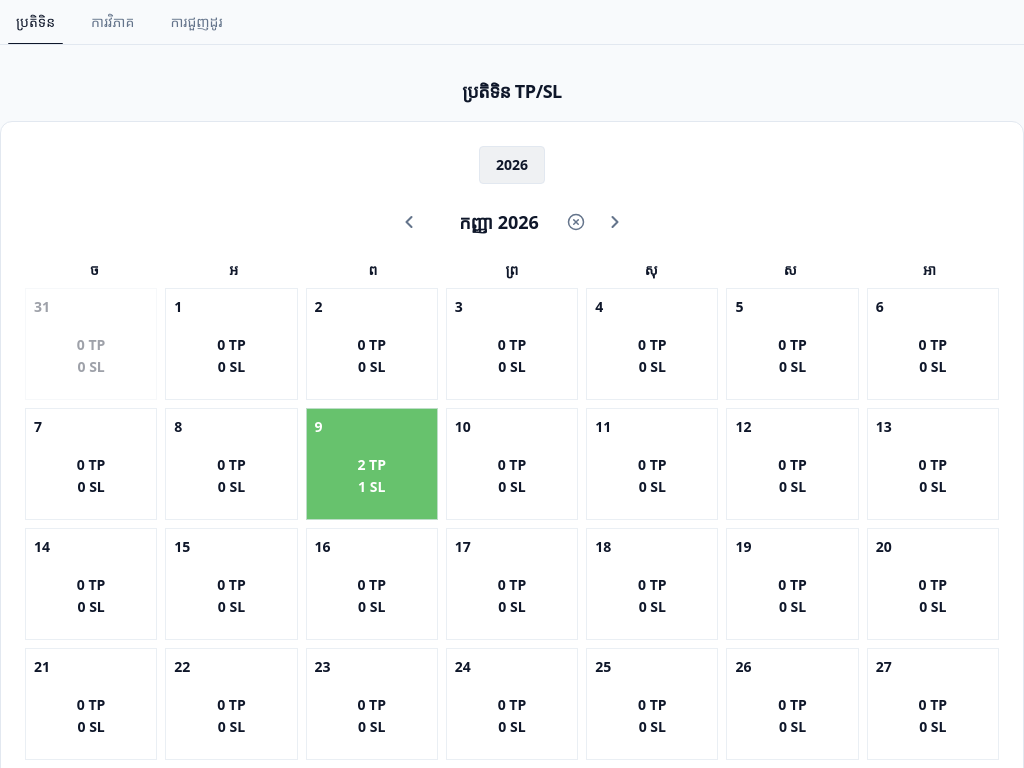
TrackRecordTabs › switches to the Trades panel when the Trades tab is clicked
The width and height of the screenshot is (1024, 768).
Click the tab "ការជួញដូរ": (196, 22) [154,0,238,44]
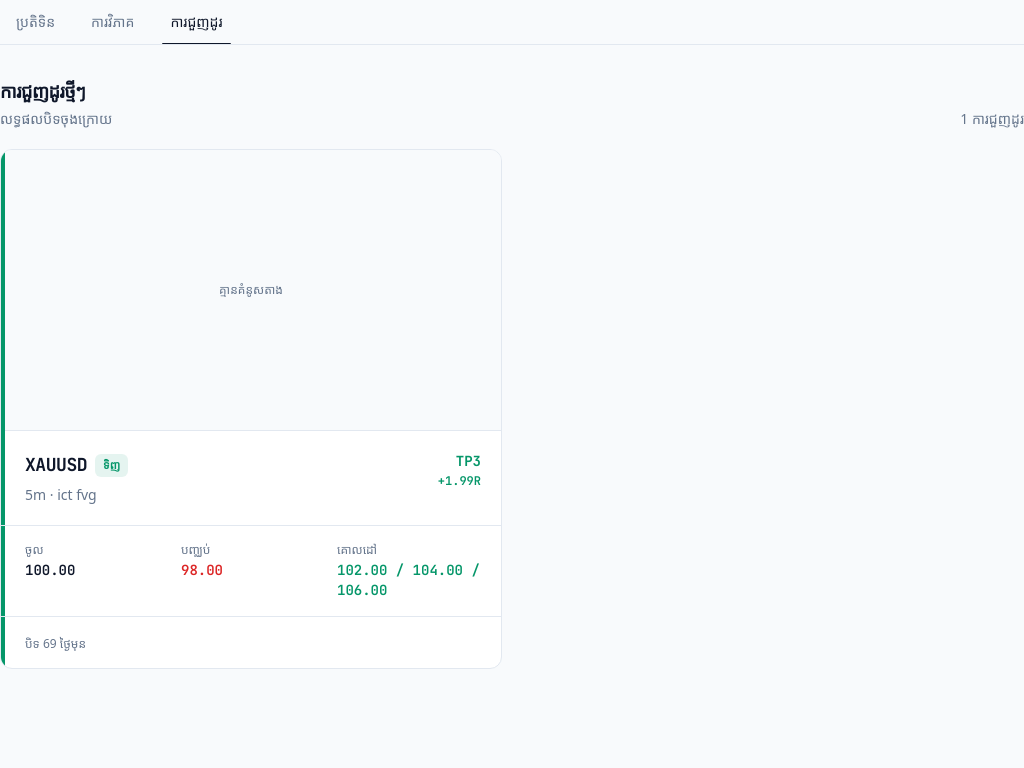
Now the heading "ការជួញដូរថ្មីៗ" is shown, box [0,79,85,103]
Now the heading "ប្រតិទិន TP/SL" is gone
